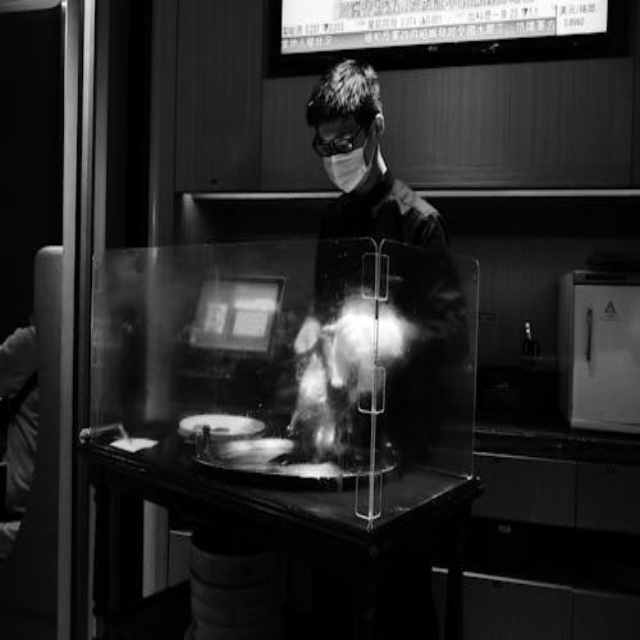Gafas: (314, 119, 369, 156)
Mascara: (320, 130, 376, 195)
